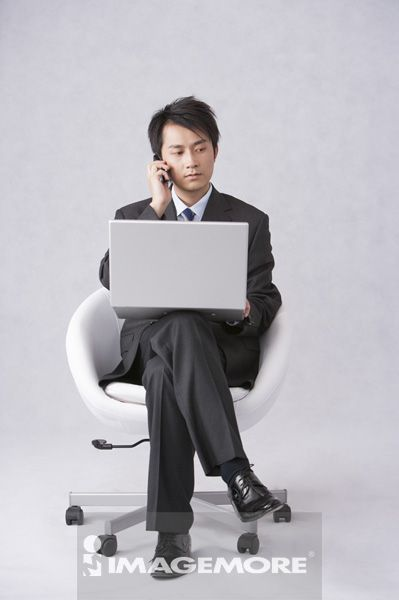talk: (147, 140, 206, 209)
